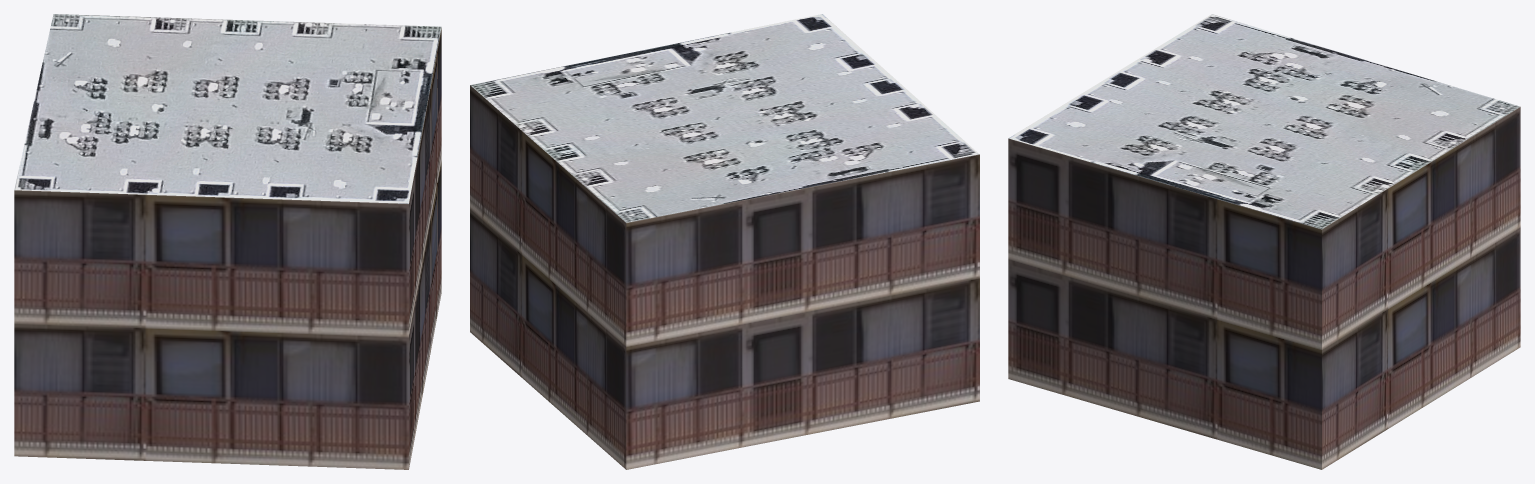
Rendered from ResTex__954.fbx.
3 views of the same model, side by side, from view 1: azimuth 30°, elevation 25°; view 2: azimuth 150°, elevation 25°; view 3: azimuth 270°, elevation 25° (orthographic). The views are drawn at different scales.
Parts seen in each view (by area): view 1: CityEngineMaterial_6_m, CityEngineMaterial_2_m; view 2: CityEngineMaterial_6_m, CityEngineMaterial_2_m; view 3: CityEngineMaterial_6_m, CityEngineMaterial_2_m.
Part boxes in pixels (left/top/right/bottom): CityEngineMaterial_6_m: left=14, top=28, right=441, bottom=469; CityEngineMaterial_2_m: left=14, top=14, right=441, bottom=203; CityEngineMaterial_6_m: left=470, top=85, right=979, bottom=469; CityEngineMaterial_2_m: left=470, top=14, right=979, bottom=222; CityEngineMaterial_6_m: left=1008, top=107, right=1520, bottom=469; CityEngineMaterial_2_m: left=1008, top=14, right=1520, bottom=229.
Size of the model in its own units: 11.52 by 6 by 11.58.
2 materials, 2 textured.
